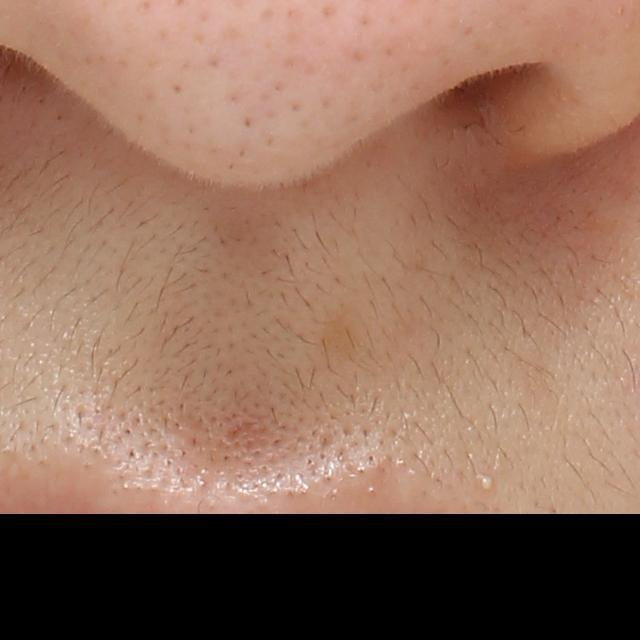pustule: (475, 473, 496, 494)
